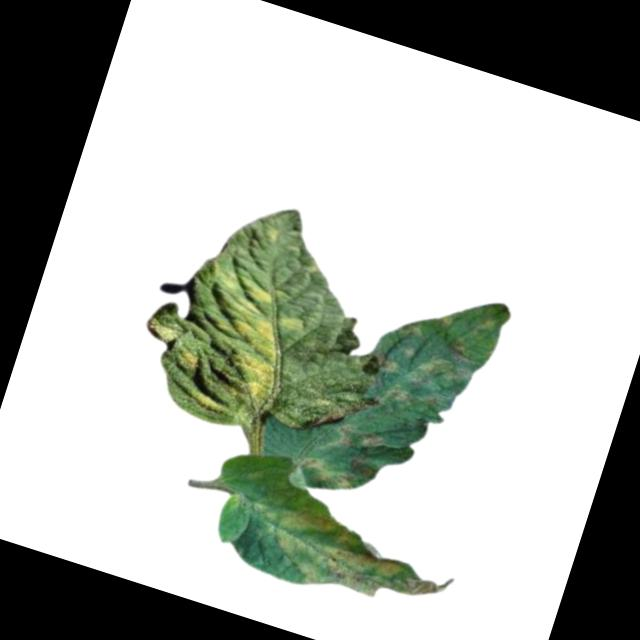Leaf_Mold: (265, 500, 461, 625), (196, 270, 312, 414), (404, 345, 474, 404), (293, 450, 361, 497), (333, 418, 392, 457), (373, 379, 416, 415), (185, 386, 230, 418), (394, 311, 425, 342), (173, 340, 202, 371), (374, 349, 404, 378)
